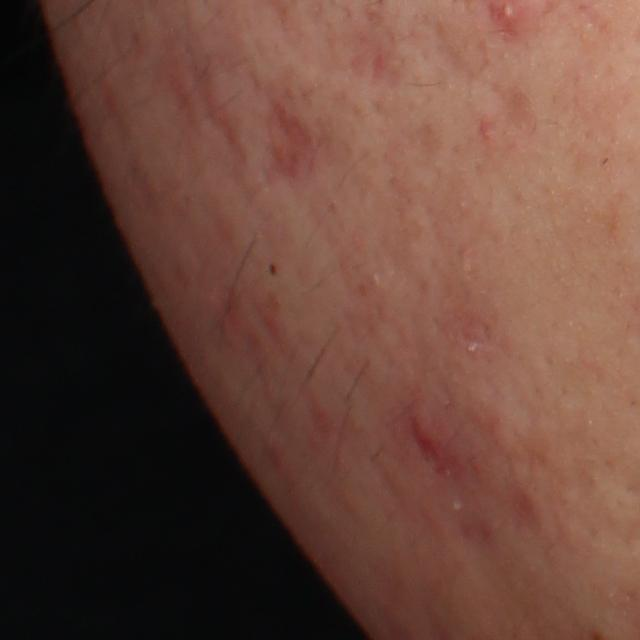atrophic_scar: (254, 92, 319, 184), (486, 79, 543, 141), (431, 20, 480, 83)
papule: (404, 410, 449, 474)
